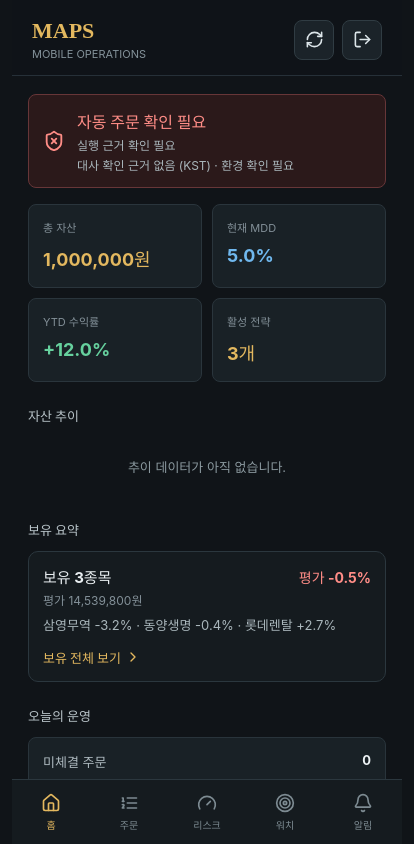
Test case: 보유 현황 › "보유 전체 보기"를 누르면 리스크 탭 보유 현황으로 이동한다
The image size is (414, 844).
Expected: the text "총 자산" is shown, [43,221,76,235]
Click the button "보유 전체 보기": (92, 657) [43,648,141,666]
(page scrolled)
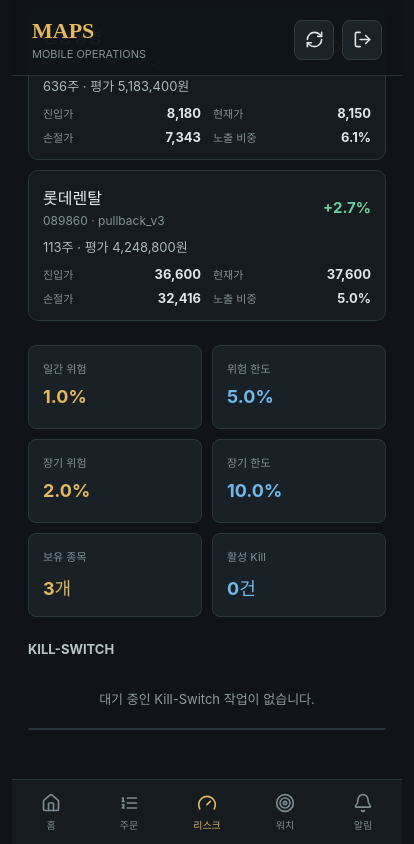
Expected: the text "활성 Kill" is shown, [227,550,266,564]
